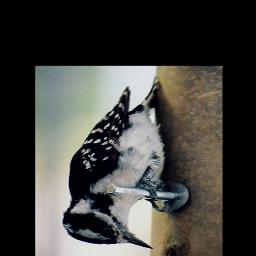Woodpecker: (62, 76, 172, 249)
